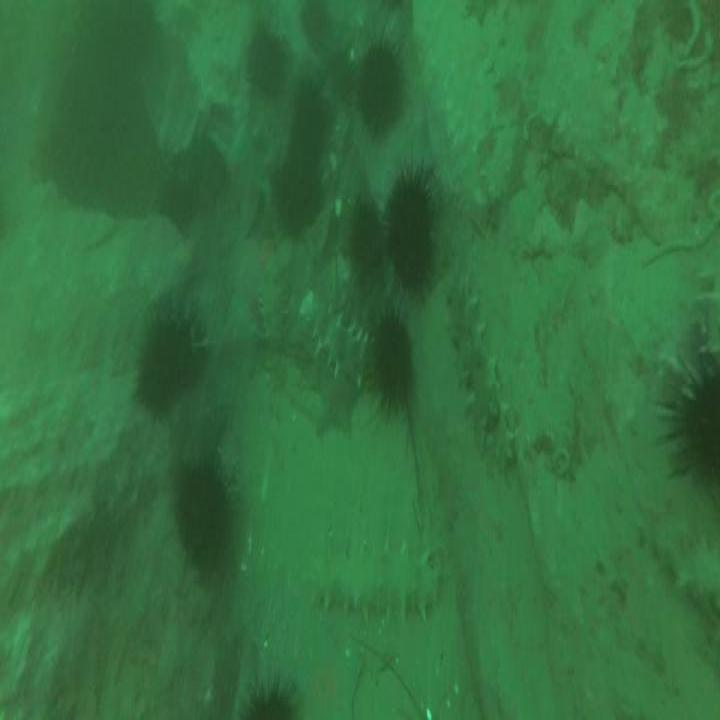echinus: (176, 467, 230, 569), (141, 325, 207, 407), (384, 172, 436, 274), (356, 46, 406, 130), (375, 314, 413, 410), (269, 160, 320, 229), (162, 158, 199, 226), (251, 32, 288, 96), (347, 208, 381, 277), (294, 84, 327, 146), (302, 7, 328, 50)
holothurian: (443, 286, 517, 464), (314, 546, 438, 620), (647, 514, 720, 606), (302, 293, 369, 386), (256, 263, 285, 350)
starfish: (290, 638, 362, 720)
